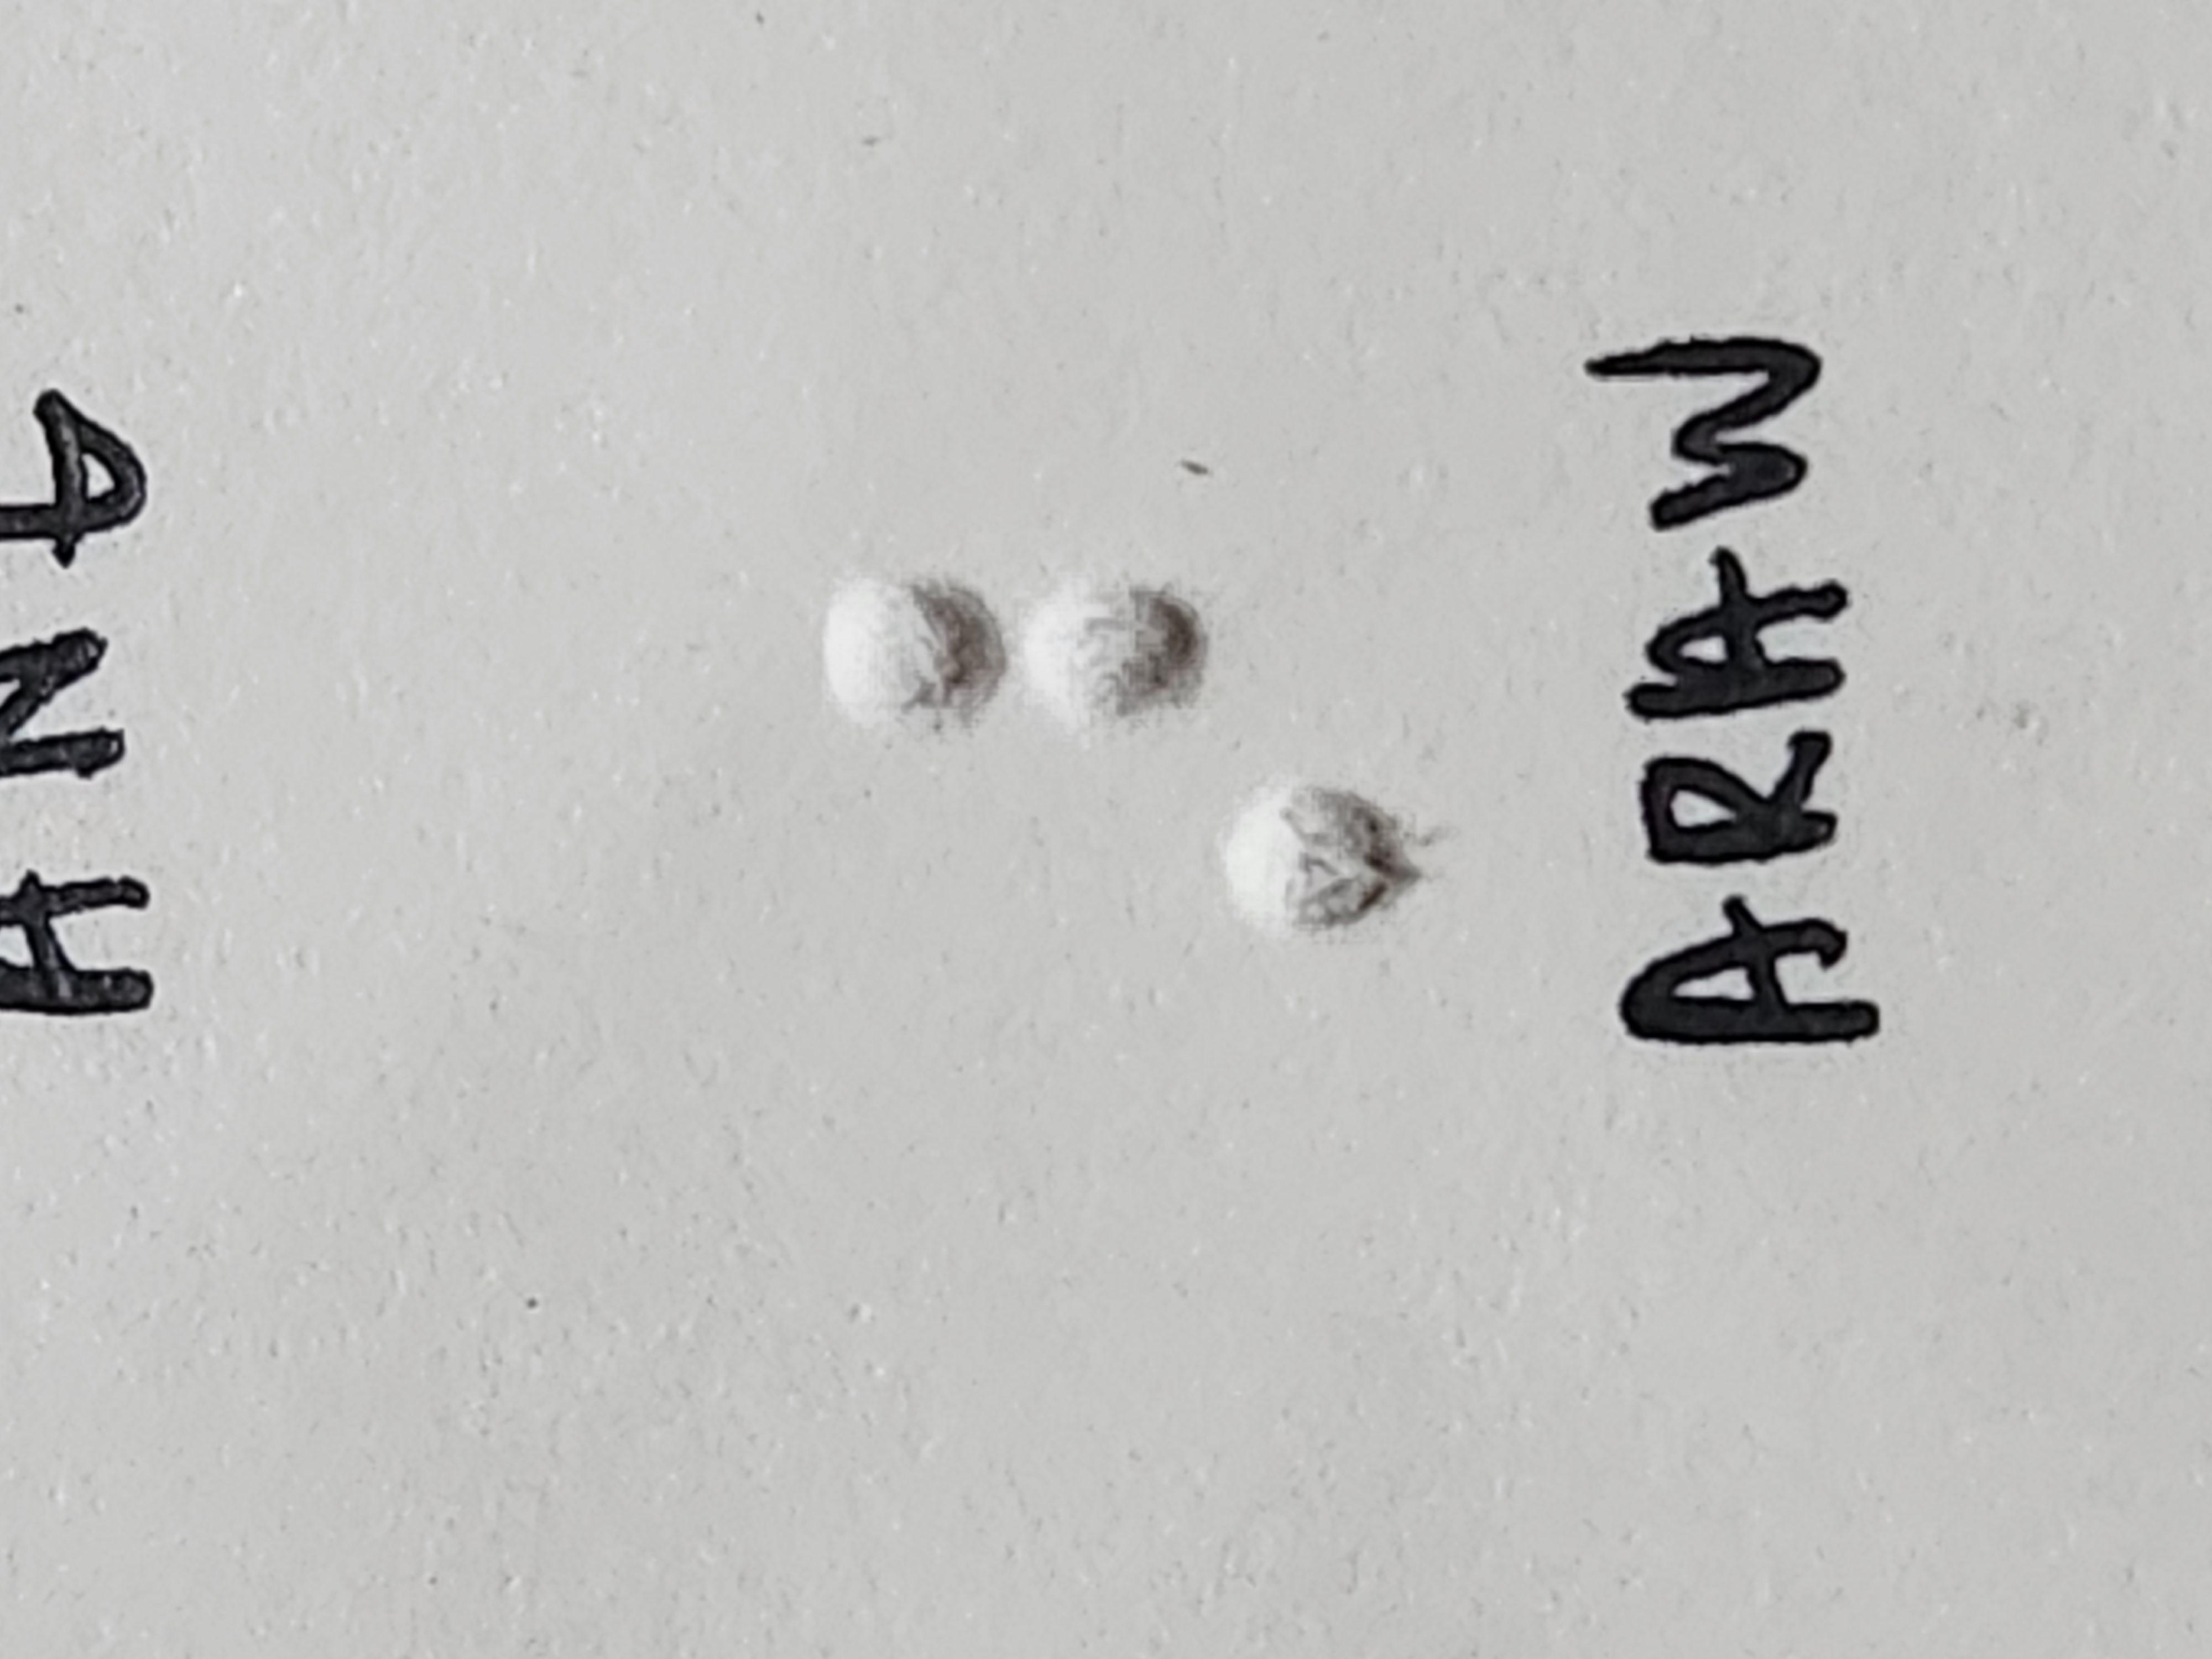one_cell_non_alphabet_araw: (946, 610, 1453, 1061)
